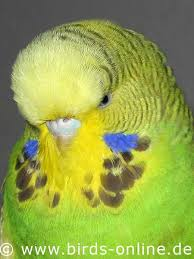budgie: (2, 20, 194, 241)
